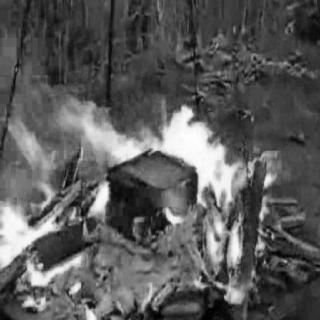Fire: (0, 20, 308, 314)
